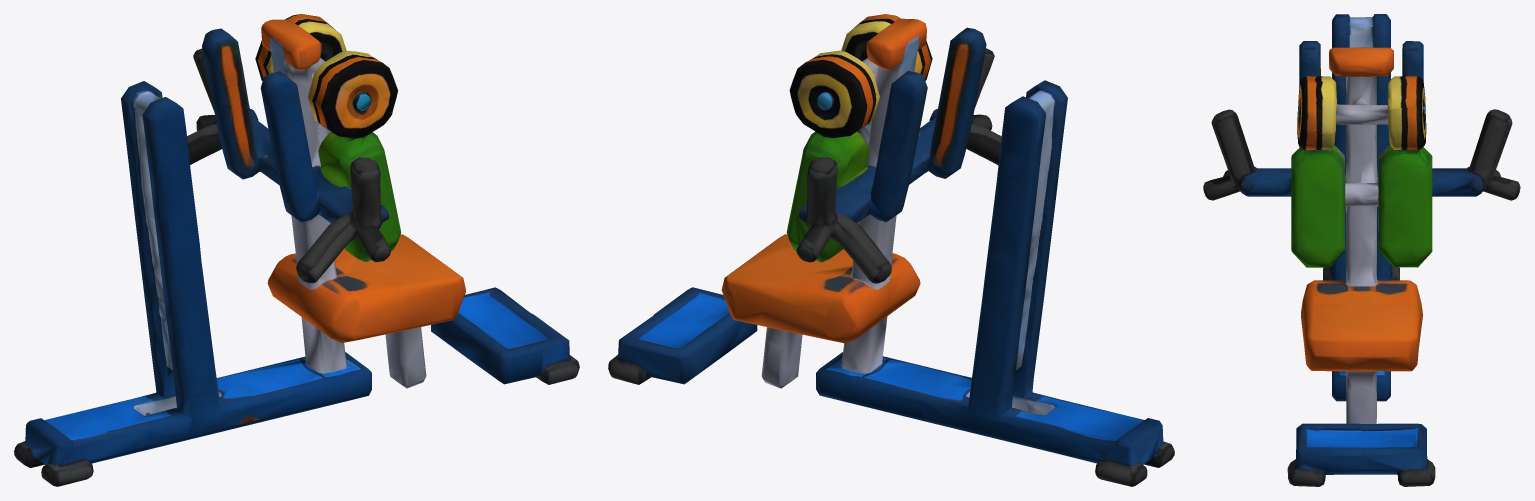
The model's file is leg-press.glb.
3 views of the same model, side by side, from view 1: azimuth 30°, elevation 25°; view 2: azimuth 150°, elevation 25°; view 3: azimuth 270°, elevation 25° (orthographic). The views are drawn at different scales.
Parts seen in each view (by area): view 1: tripo_node_3ab95bd2-bb33-4471-b352-5d407f19e66e; view 2: tripo_node_3ab95bd2-bb33-4471-b352-5d407f19e66e; view 3: tripo_node_3ab95bd2-bb33-4471-b352-5d407f19e66e.
Part boxes in pixels (x1=…): tripo_node_3ab95bd2-bb33-4471-b352-5d407f19e66e: x1=14, y1=14, x2=579, y2=486; tripo_node_3ab95bd2-bb33-4471-b352-5d407f19e66e: x1=608, y1=14, x2=1174, y2=486; tripo_node_3ab95bd2-bb33-4471-b352-5d407f19e66e: x1=1203, y1=14, x2=1520, y2=486.
Bounding box in the file's own units: 0.9996 × 0.7162 × 0.6168.
1 material, 1 textured.
